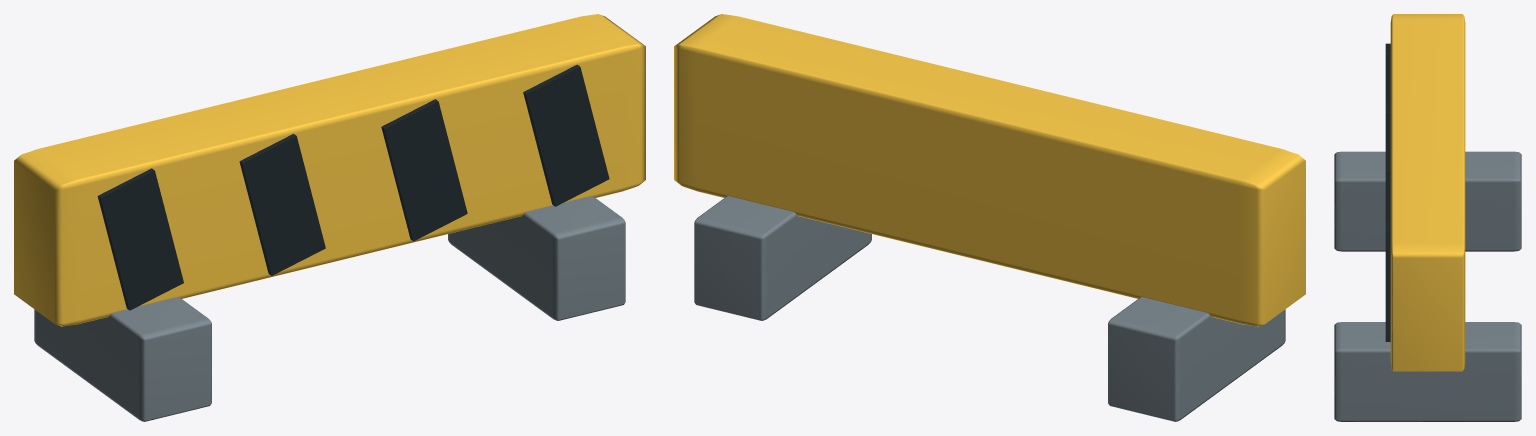
File: barricade_2m.glb
3 views of the same model, side by side, from view 1: azimuth 30°, elevation 25°; view 2: azimuth 150°, elevation 25°; view 3: azimuth 270°, elevation 25° (orthographic). The views are drawn at different scales.
Visible parts, largest first — view 1: Barrier beam, Barrier foot, Barrier foot.001, Dark stripe.001, Dark stripe, Dark stripe.002, Dark stripe.003; view 2: Barrier beam, Barrier foot, Barrier foot.001; view 3: Barrier beam, Barrier foot.001, Barrier foot, Dark stripe.003, Dark stripe.002, Dark stripe, Dark stripe.001.
Boxes of the visible parts, x1,y1,x2,y2 form: Barrier beam: (14,14,645,326); Barrier foot: (34,297,211,421); Barrier foot.001: (448,196,625,320); Dark stripe.001: (239,133,325,275); Dark stripe: (97,168,183,310); Dark stripe.002: (381,99,467,241); Dark stripe.003: (523,64,609,206); Barrier beam: (674,14,1305,326); Barrier foot: (1108,297,1285,421); Barrier foot.001: (694,196,871,320); Barrier beam: (1390,14,1465,371); Barrier foot.001: (1334,322,1521,421); Barrier foot: (1334,151,1521,251); Dark stripe.003: (1385,218,1390,341); Dark stripe.002: (1385,160,1390,218); Dark stripe: (1385,43,1390,101); Dark stripe.001: (1385,102,1390,160).
Size of the model in its own units: 2 by 0.735 by 0.65.
